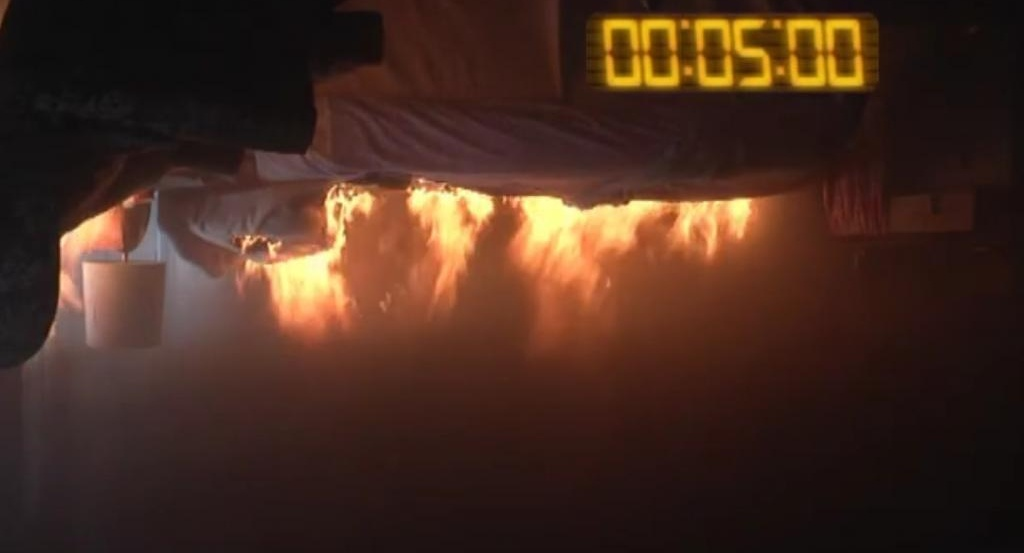fire: (264, 191, 745, 344)
